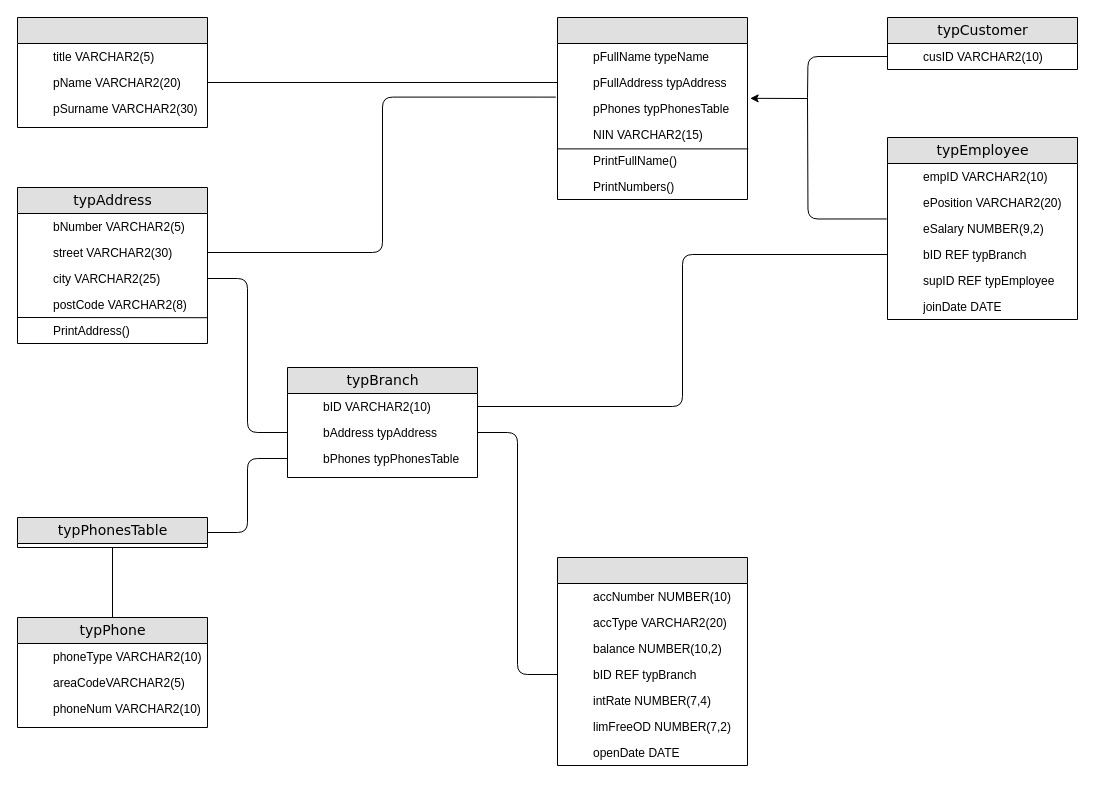
The diagram is 1095 pixels wide and 786 high, and some of its shapes have lost their labels. Here are the shapes that lost their labels. From the top down, the box of each, then its label:
(16, 16, 208, 128): typName
(556, 16, 748, 200): typPerson
(556, 556, 748, 766): typAccount
